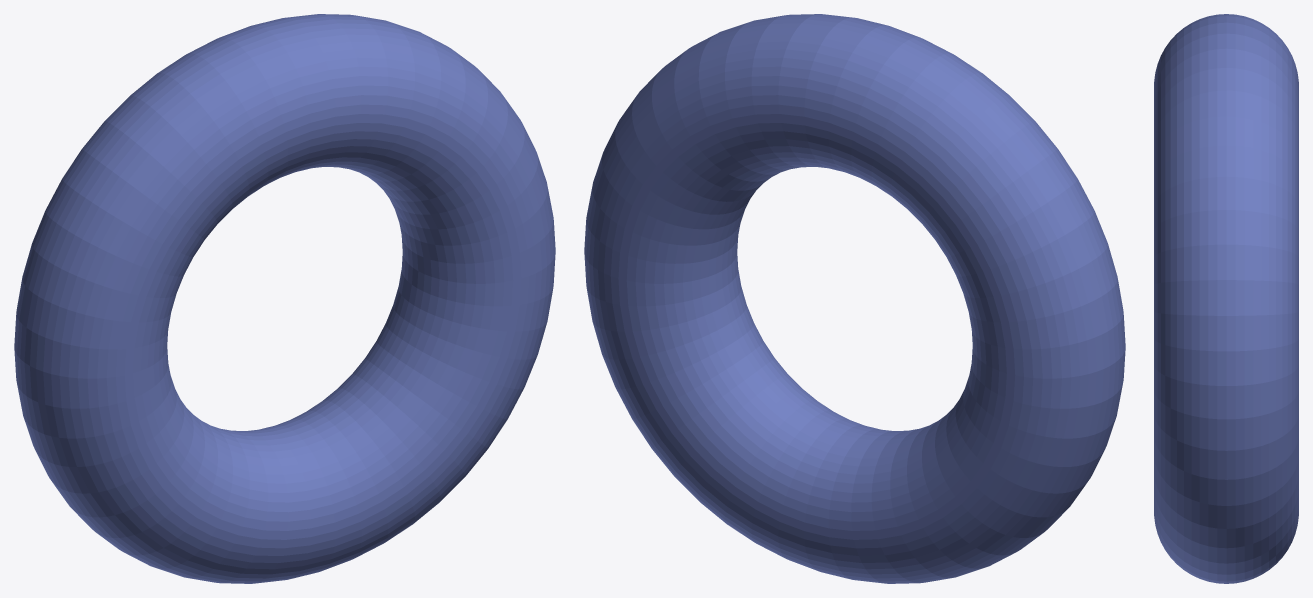
3 views of the same model, side by side, from view 1: azimuth 30°, elevation 25°; view 2: azimuth 150°, elevation 25°; view 3: azimuth 270°, elevation 25° (orthographic). The views are drawn at different scales.
Parts seen in each view (by area): view 1: world; view 2: world; view 3: world.
Part boxes in pixels (x1,y1,x2,y2): world: (14,14,555,583); world: (584,14,1125,583); world: (1154,14,1298,583).
Bounding box in the file's own units: 15.2 × 15.17 × 3.86.
